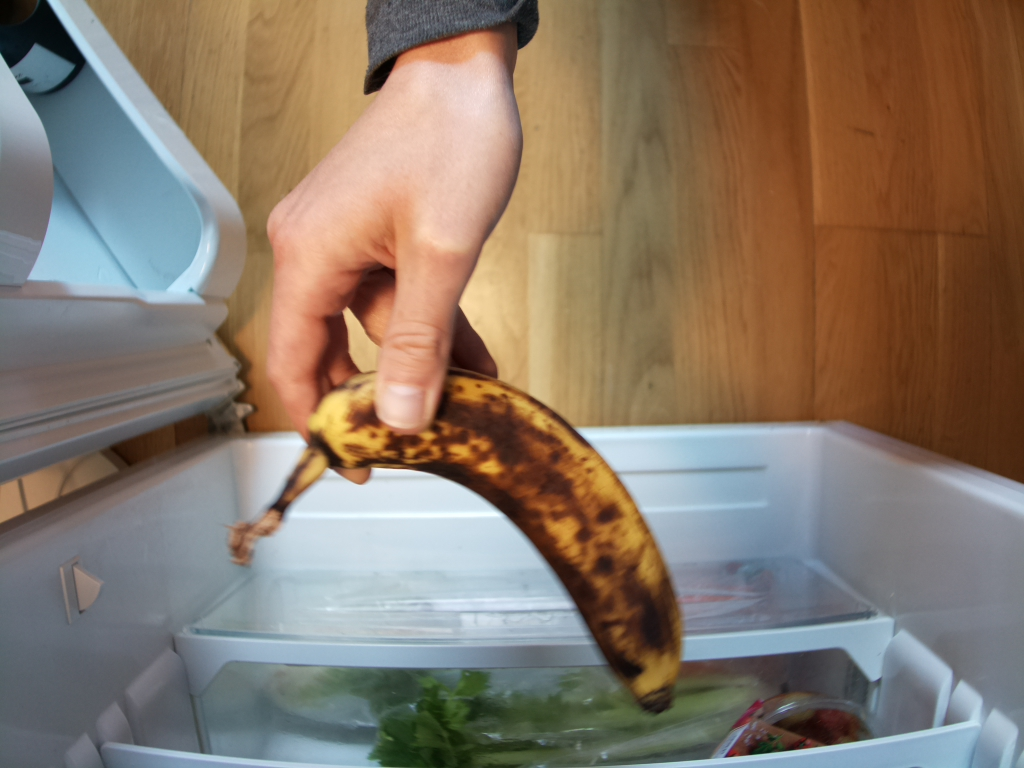banana-overripe: (233, 363, 682, 714)
